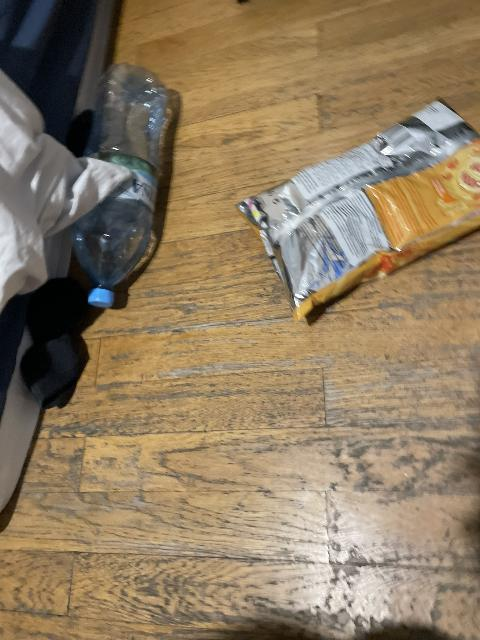Chio Hula Hoops Cheese 70g: (239, 95, 480, 323)
